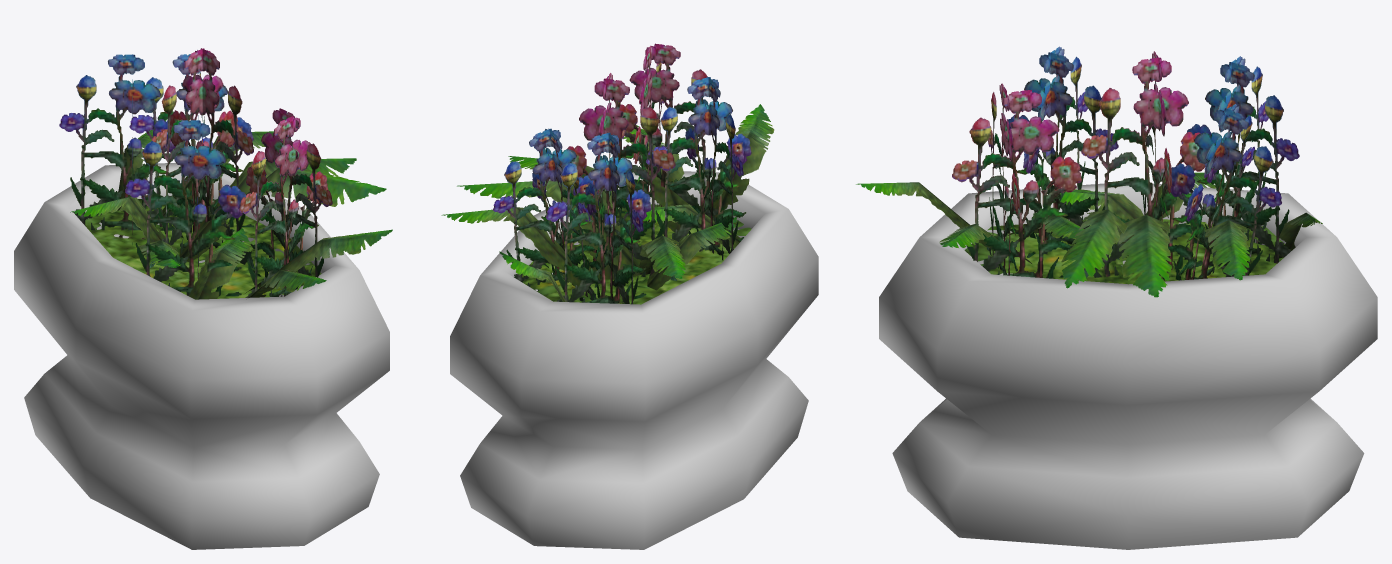
Rendered from parterre_001.FBX.
3 views of the same model, side by side, from view 1: azimuth 30°, elevation 25°; view 2: azimuth 150°, elevation 25°; view 3: azimuth 270°, elevation 25° (orthographic). The views are drawn at different scales.
Visible parts, largest first — view 1: parterre_001; view 2: parterre_001; view 3: parterre_001.
Part boxes in pixels (x1,y1,x2,y2): parterre_001: (14, 48, 392, 549); parterre_001: (441, 43, 818, 549); parterre_001: (856, 46, 1377, 549).
Bounding box in the file's own units: 213 × 272 × 293.
